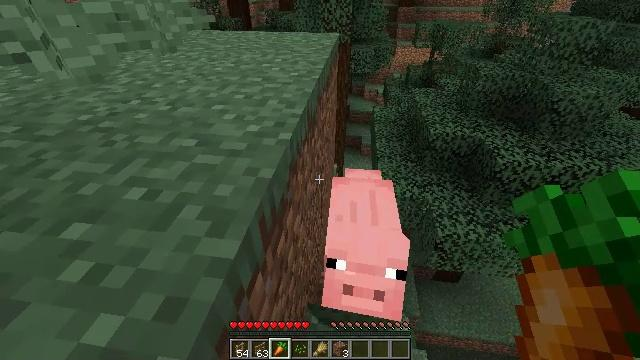pig: (326, 178, 409, 319)
